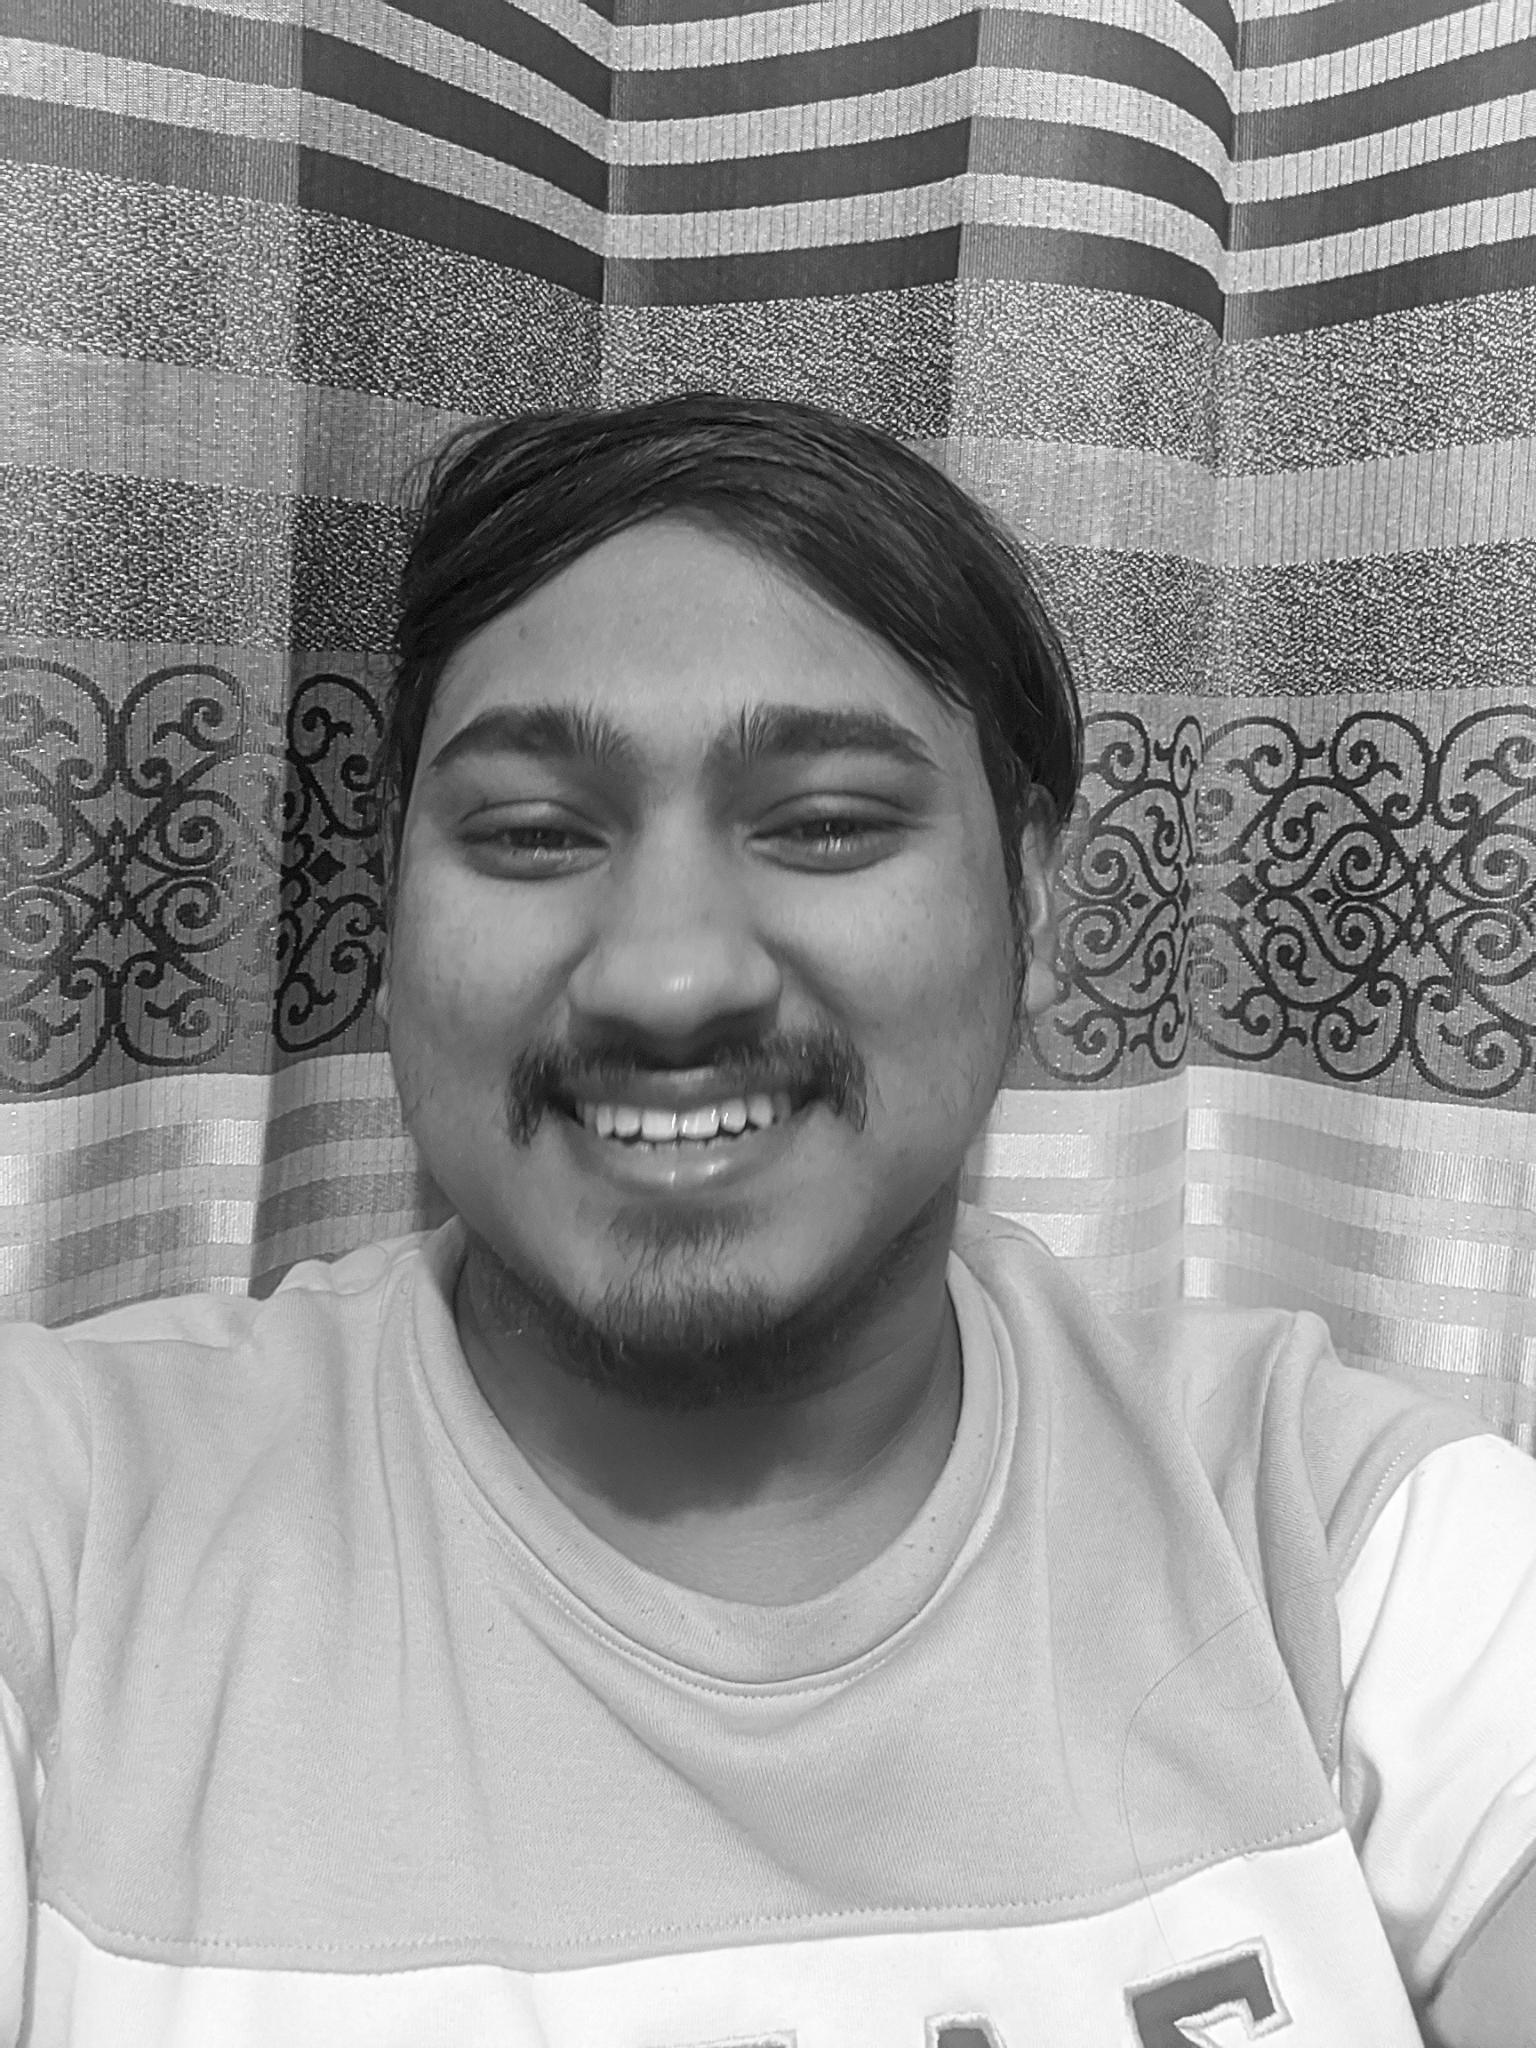Happy: (394, 597, 984, 1321)
